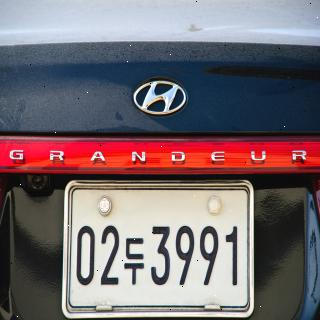license: (62, 178, 256, 319)
